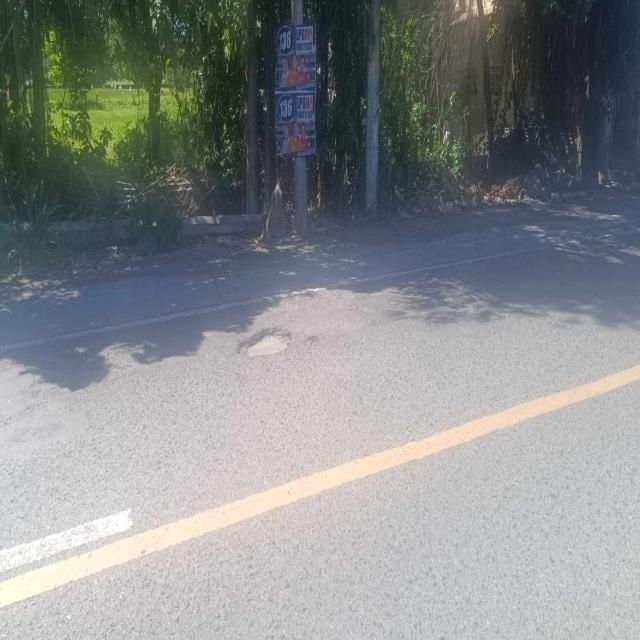pothole: (230, 298, 304, 392)
